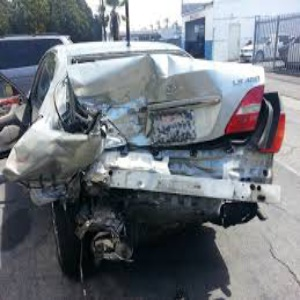bonnet: (69, 59, 267, 93)
bumper: (89, 188, 264, 247)
tail_lights: (228, 87, 288, 156)
